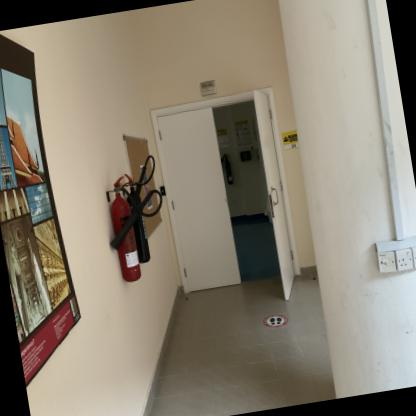semi: (138, 72, 312, 320)
